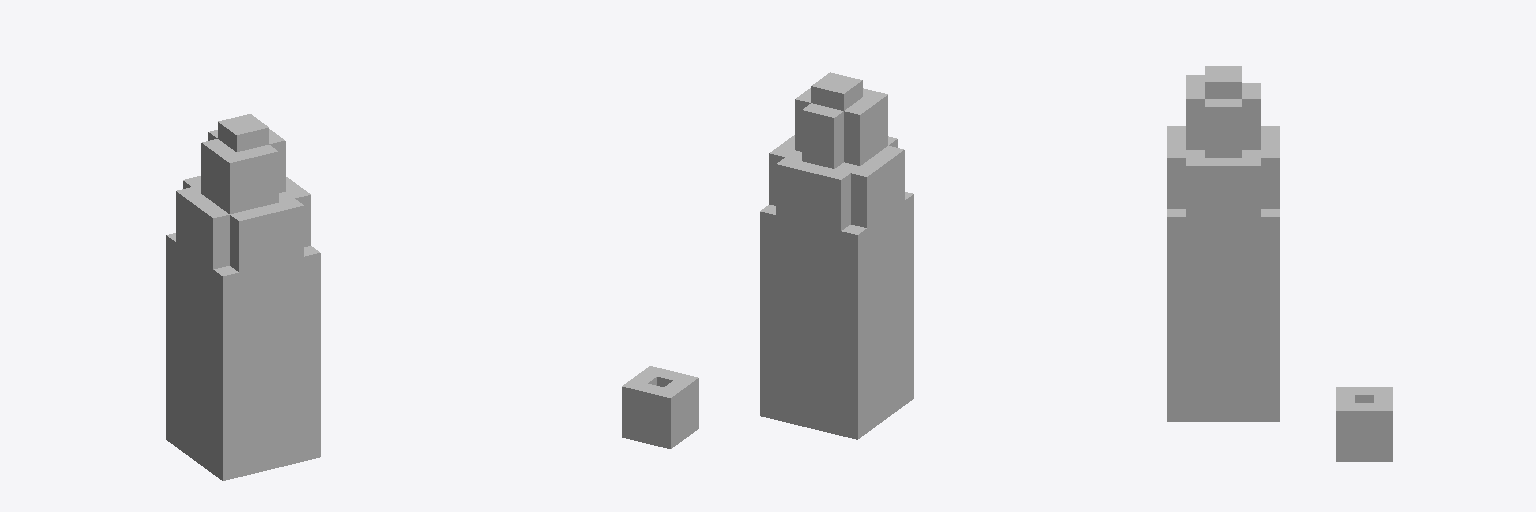
Rendered from bottle and cup.obj.
3 renders of one model, left to right at view 1: azimuth 30°, elevation 25°; view 2: azimuth 150°, elevation 25°; view 3: azimuth 270°, elevation 25°, orthographic.
Bounding box in the file's own units: 11 × 19 × 12.